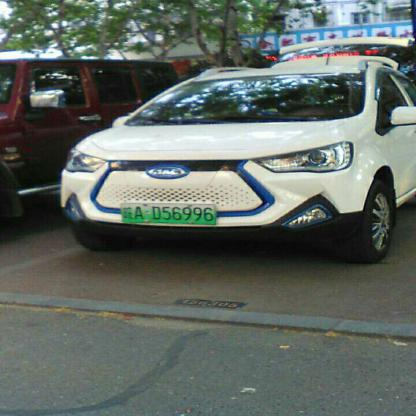lp: (121, 202, 216, 223)
